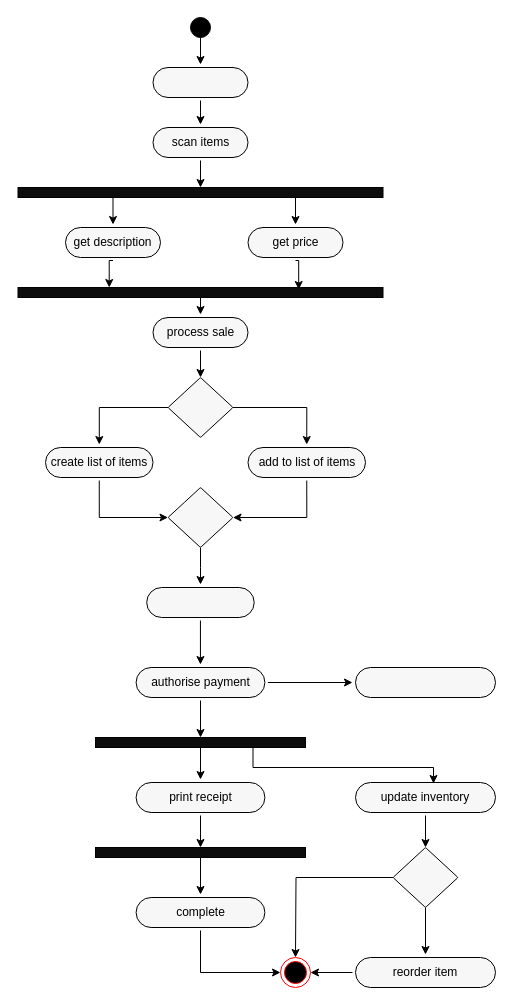
This 513x1005 diagram has some shape labels left out. Here are the shapes that lost their labels. From the top down, the box of each, then its label:
(152, 66, 248, 98): Start
(146, 586, 254, 618): calculate total
(354, 666, 496, 698): cancle
